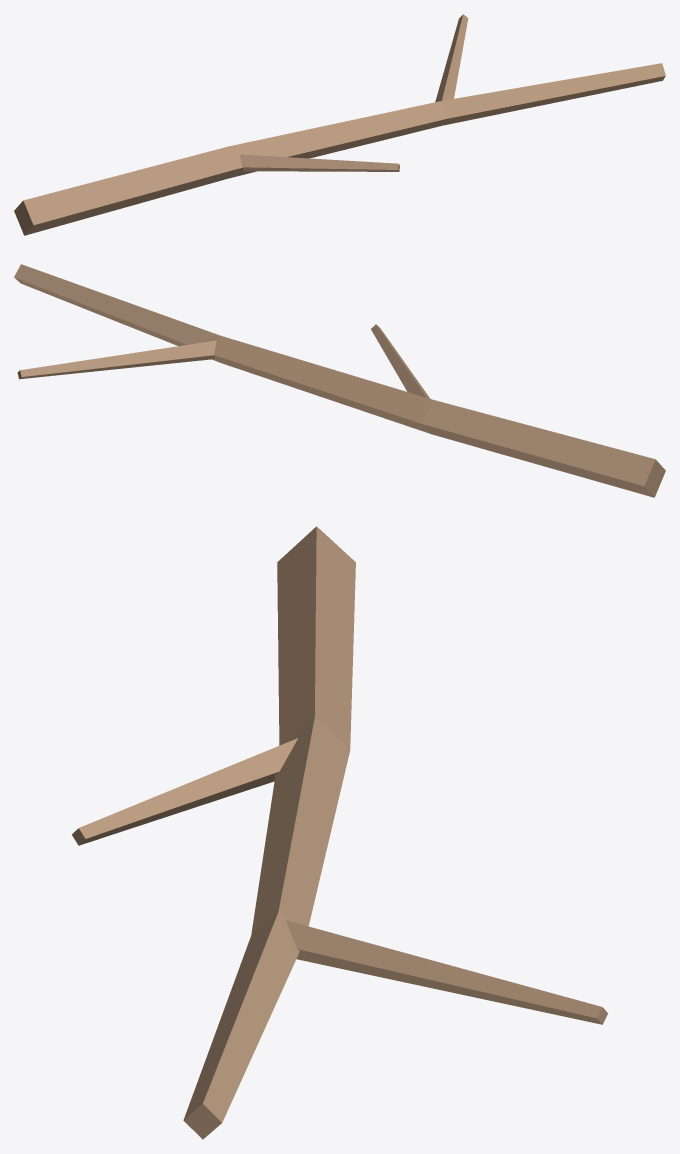
The model's file is galho_1.fbx.
The picture shows the model from 3 angles, top to bottom: view 1: azimuth 30°, elevation 25°; view 2: azimuth 150°, elevation 25°; view 3: azimuth 270°, elevation 25°; orthographic projection. The views are drawn at different scales.
Visible parts, largest first — view 1: galho_1~Galho@bark, galho_1~Graveto 0@bark, galho_1~Graveto 1@bark; view 2: galho_1~Galho@bark, galho_1~Graveto 1@bark, galho_1~Graveto 0@bark; view 3: galho_1~Galho@bark, galho_1~Graveto 1@bark, galho_1~Graveto 0@bark.
Part boxes in pixels (box(x1,y1,x2,y2)): galho_1~Galho@bark: box(14, 63, 665, 235); galho_1~Graveto 0@bark: box(240, 154, 399, 171); galho_1~Graveto 1@bark: box(435, 14, 468, 102); galho_1~Galho@bark: box(14, 264, 665, 497); galho_1~Graveto 1@bark: box(17, 340, 216, 379); galho_1~Graveto 0@bark: box(371, 324, 430, 398); galho_1~Galho@bark: box(183, 526, 355, 1139); galho_1~Graveto 1@bark: box(286, 920, 607, 1024); galho_1~Graveto 0@bark: box(72, 738, 297, 845).
Bounding box in the file's own units: 1.8 × 0.1258 × 0.6813.
